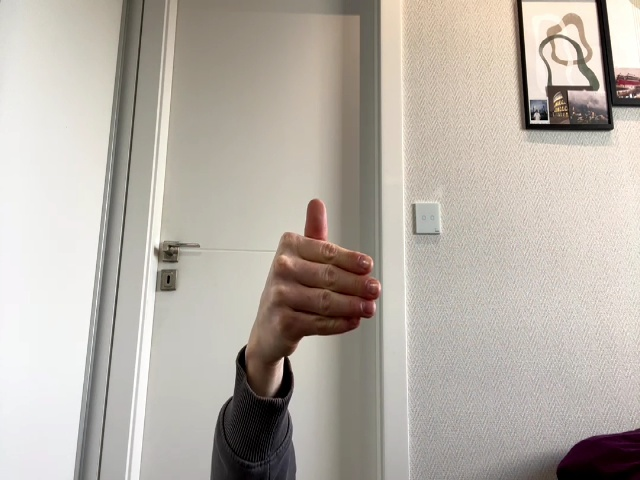M: (261, 199, 381, 355)
